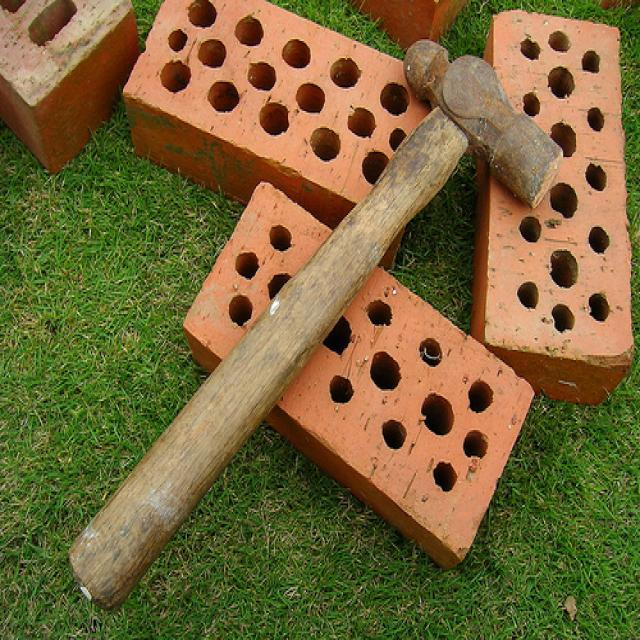hammer: (58, 43, 576, 608)
